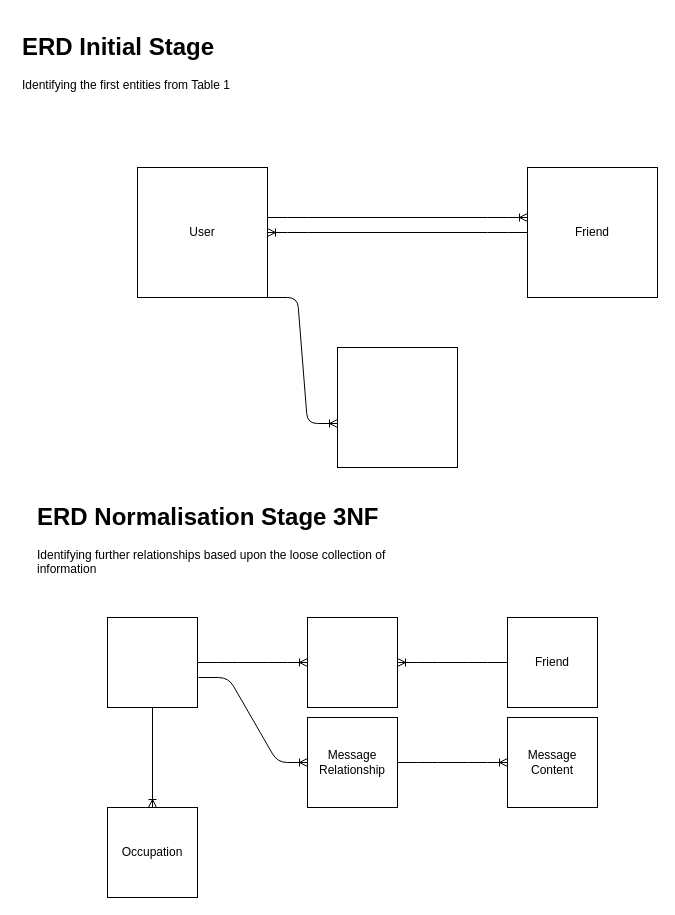
Some shapes in this 675 by 915 pixel diagram are drawn without their labels. The shapes that lost their labels are listed below. From the top down, each one's box as (x1, y1, x2, y2) in pixels, then its label:
(336, 346, 458, 468): Messages
(106, 616, 198, 708): Users
(306, 616, 398, 708): Friendships
